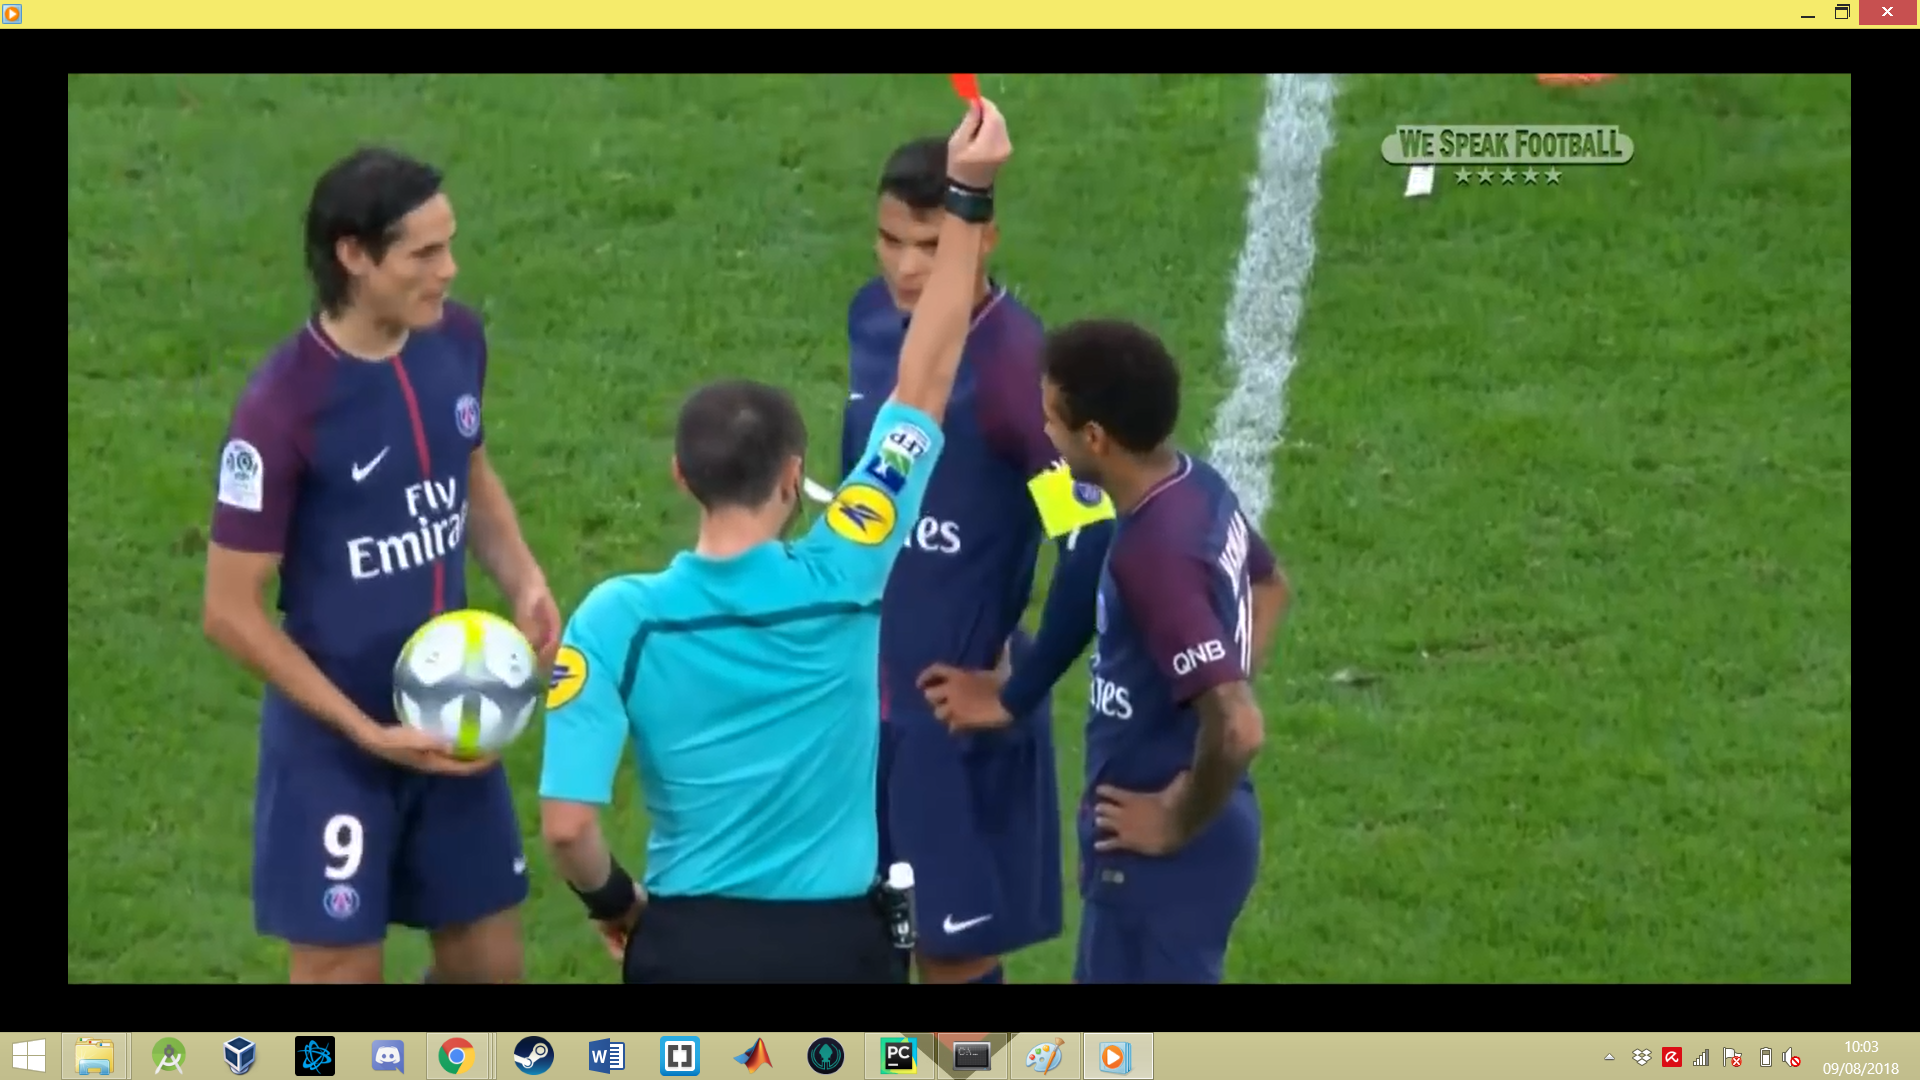red_card: (938, 73, 1021, 185)
